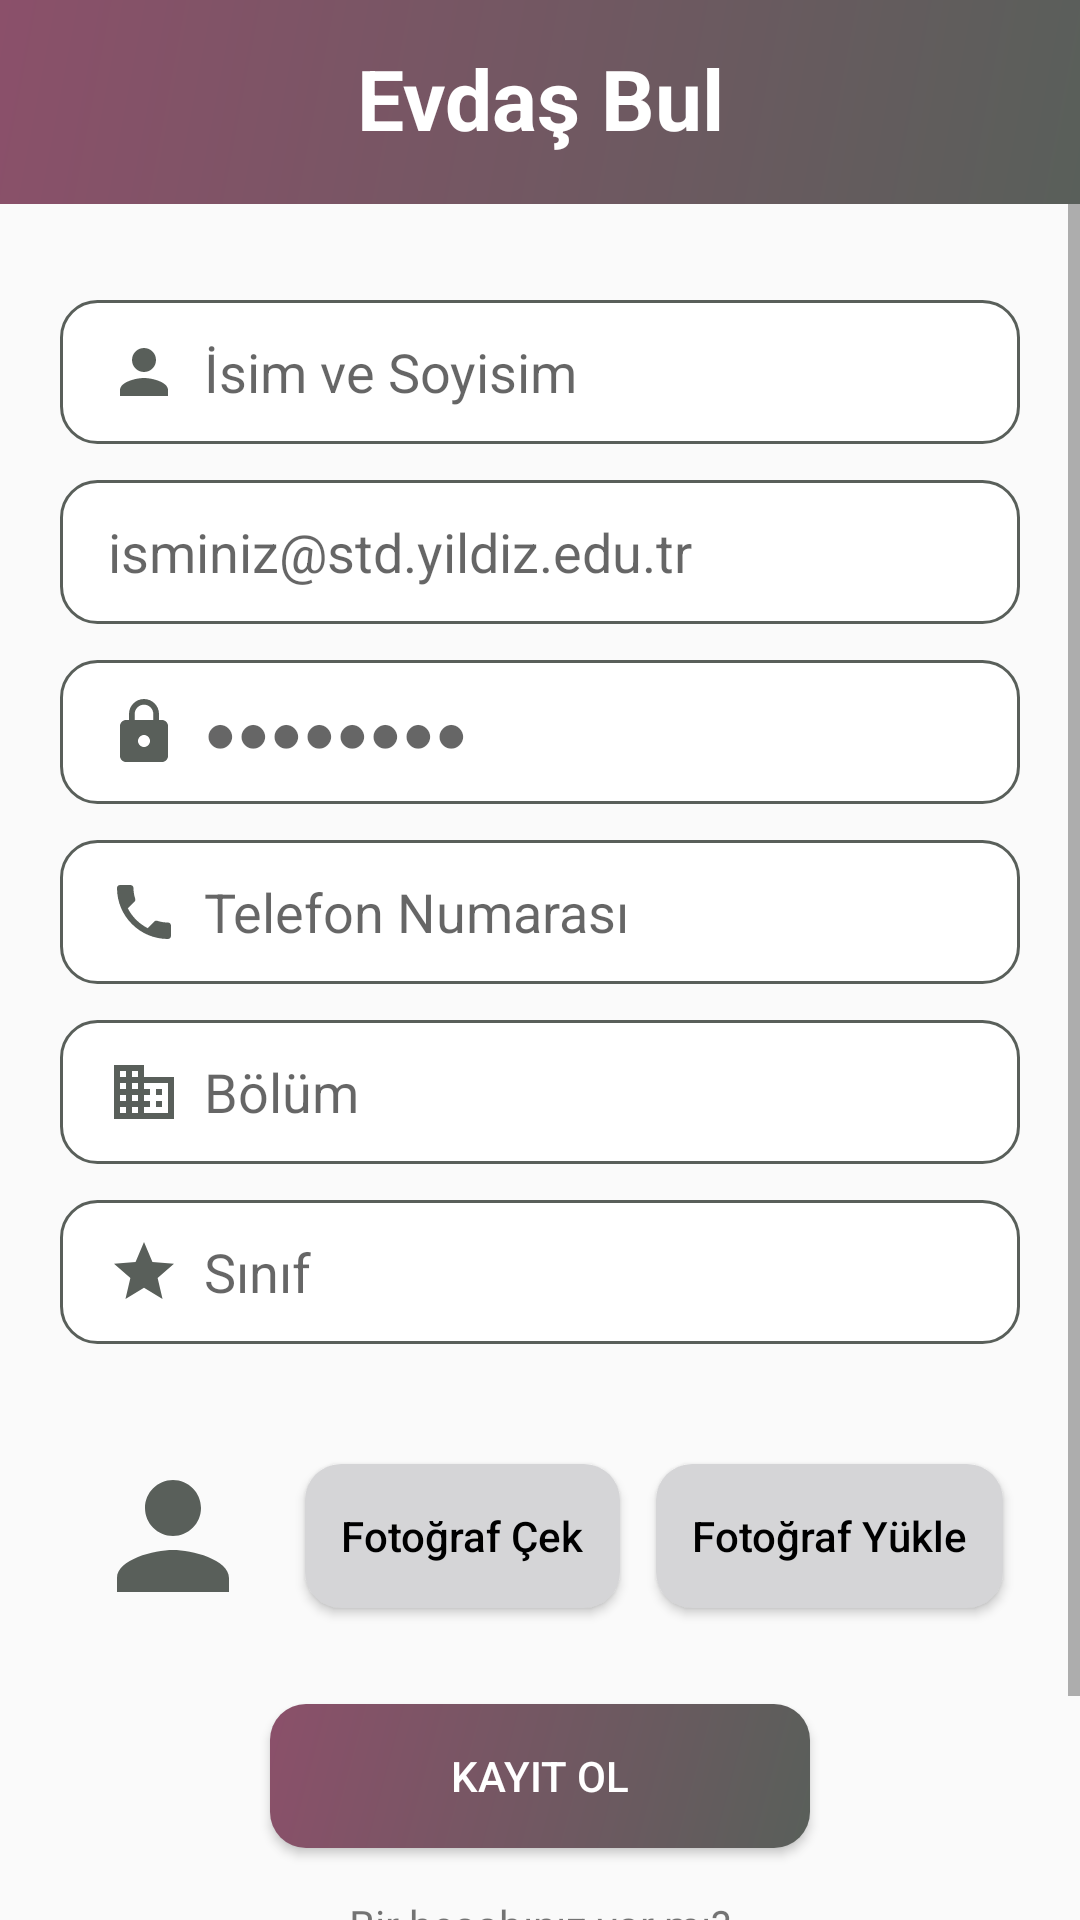

Icon click points for this 1080 x 1920 phone screenshot, format point (x, y):
Profil Fotoğrafı: point (173, 1536)
